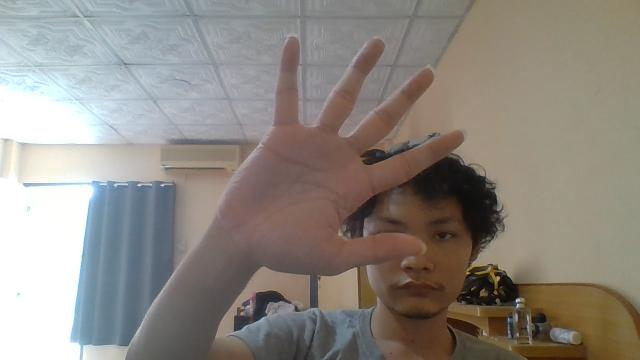Stop: (216, 35, 464, 277)
